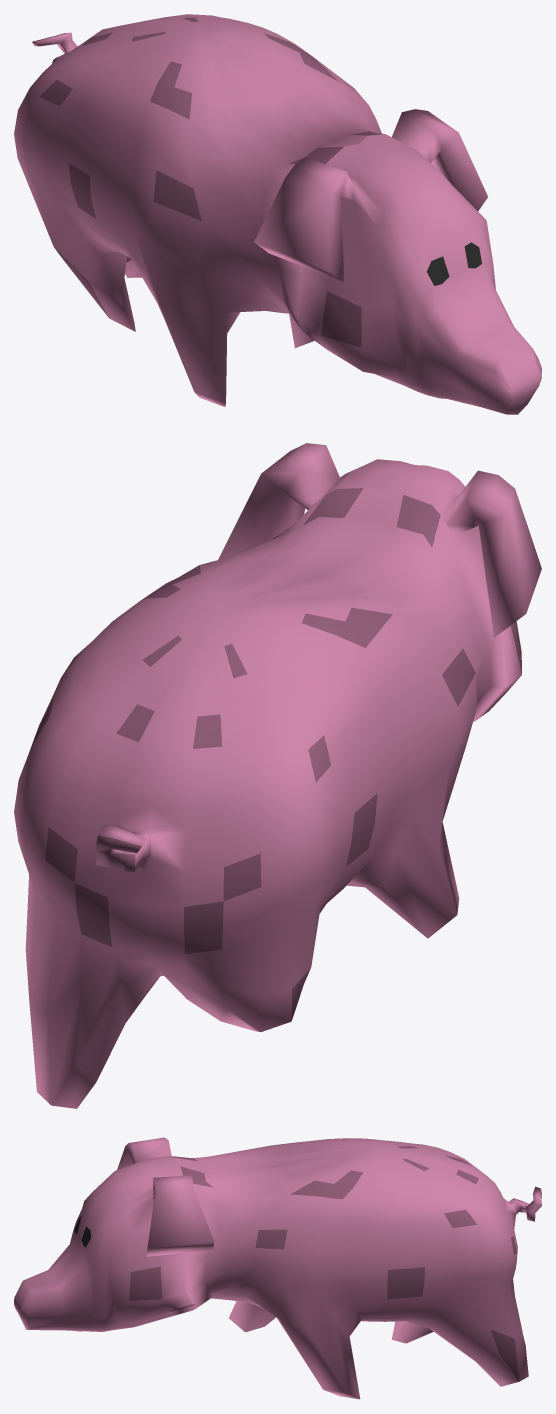
File: piggo4.fbx
3 views of the same model, one above another, from view 1: azimuth 30°, elevation 25°; view 2: azimuth 150°, elevation 25°; view 3: azimuth 270°, elevation 25° (orthographic). The views are drawn at different scales.
Parts seen in each view (by area): view 1: Sphere; view 2: Sphere; view 3: Sphere.
Part boxes in pixels (left/top/right/bottom): Sphere: left=14, top=14, right=541, bottom=414; Sphere: left=14, top=443, right=541, bottom=1108; Sphere: left=14, top=1137, right=541, bottom=1399.
Bounding box in the file's own units: 187 × 225 × 474.
